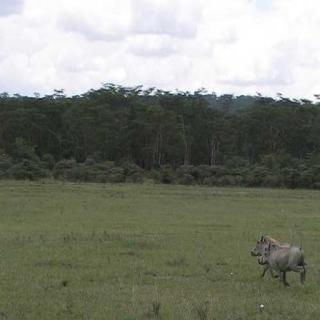Pig: (237, 225, 303, 274)
